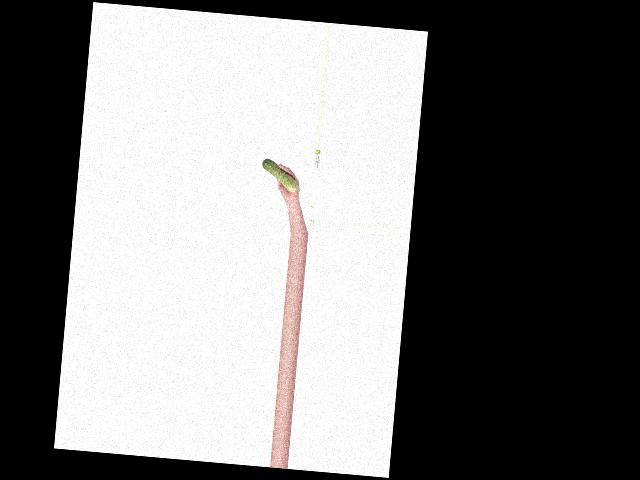cucumber: (260, 159, 299, 192)
